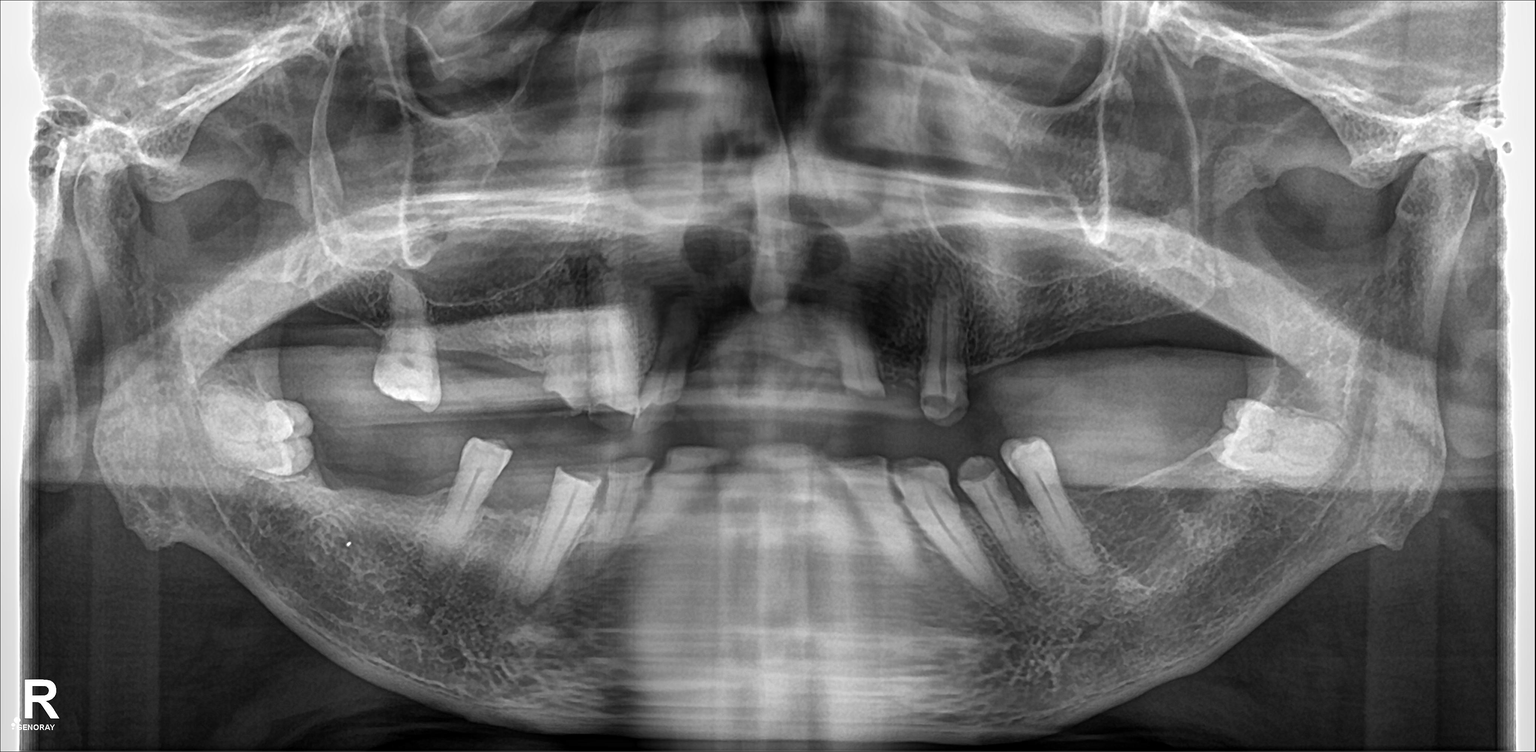Impacted Third Molar: (1214, 395, 1348, 478), (197, 404, 310, 477)
Missing Tooth: (1117, 296, 1180, 442), (1076, 458, 1146, 572), (1058, 309, 1116, 436), (775, 307, 834, 417), (492, 290, 548, 402), (1183, 270, 1238, 383), (991, 315, 1041, 434), (439, 285, 490, 389), (715, 307, 757, 432), (341, 262, 381, 383), (1160, 456, 1196, 576), (356, 434, 395, 542), (298, 274, 337, 377), (320, 426, 352, 530), (410, 441, 439, 538), (505, 469, 535, 559)
